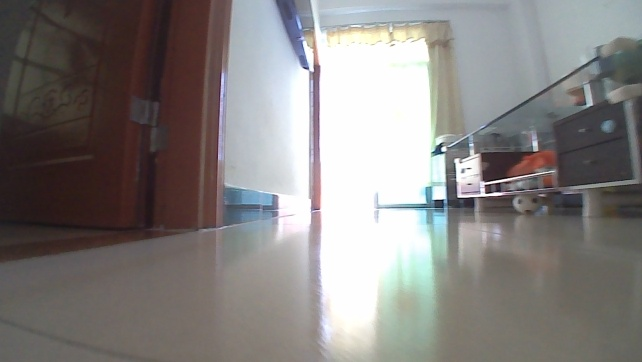door_anno: (0, 0, 233, 234)
tea_table: (444, 50, 641, 220)
